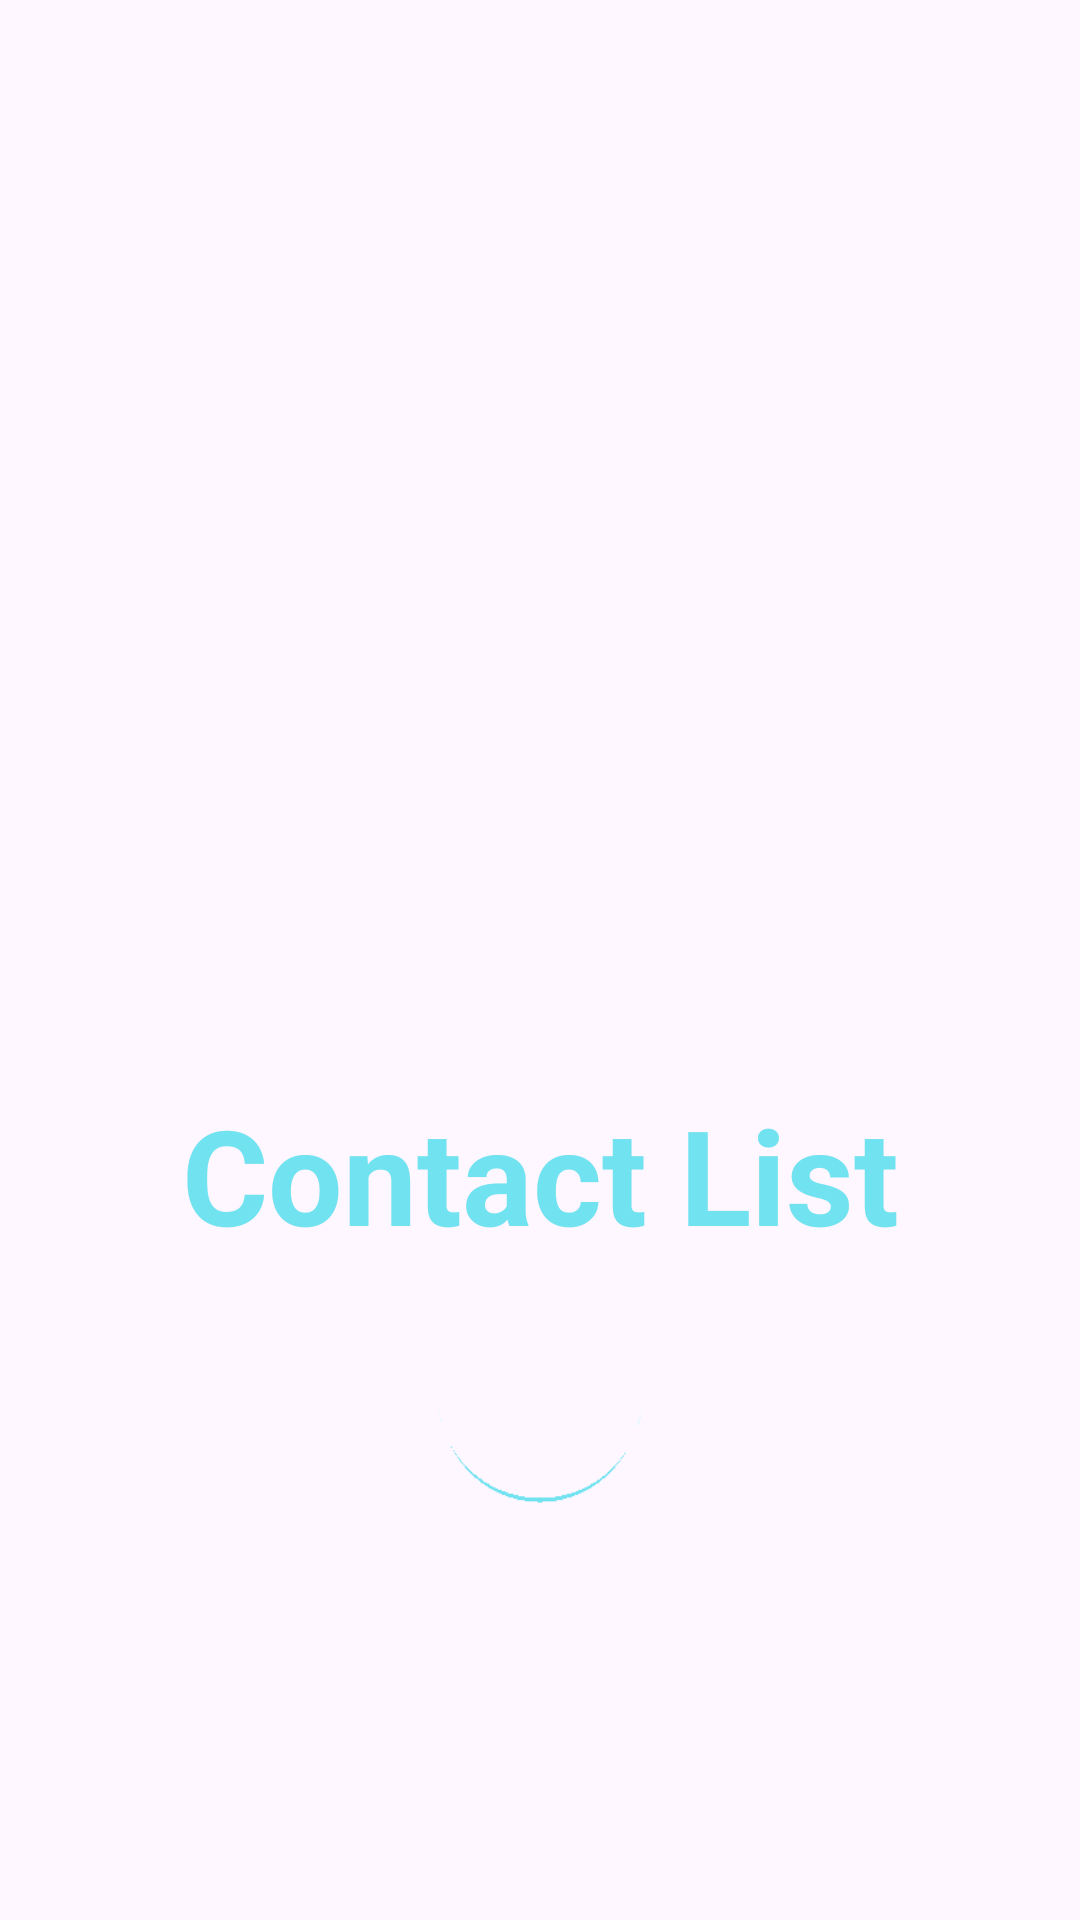

Icons on this 1080*1920 Android screen, each with its box as (x1, y1, x2, y2):
loading: (450, 1420, 639, 1503)
